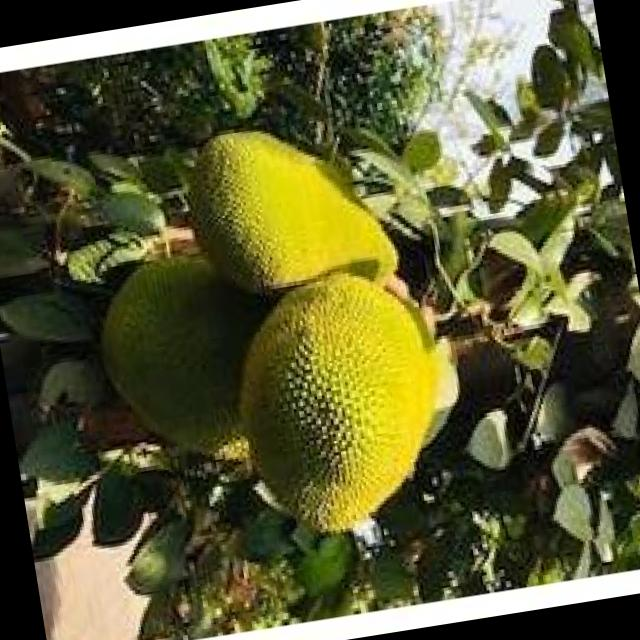Fruit: (208, 245, 480, 558), (163, 94, 420, 316)
